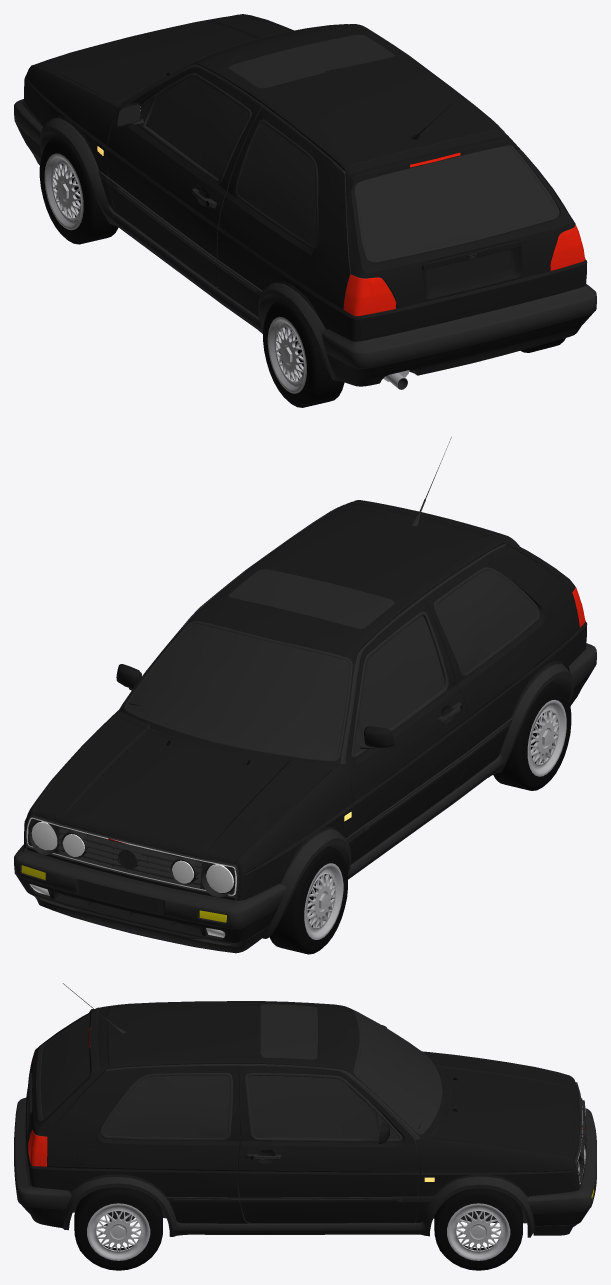
File: GolfV16.fbx
The picture shows the model from 3 angles, top to bottom: view 1: azimuth 30°, elevation 25°; view 2: azimuth 150°, elevation 25°; view 3: azimuth 270°, elevation 25°; orthographic projection. The views are drawn at different scales.
Parts seen in each view (by area): view 1: Volkswagen Golf Gti 16V, Rear Wheels, Rear Wheels.001; view 2: Volkswagen Golf Gti 16V, Rear Wheels.001, Rear Wheels; view 3: Volkswagen Golf Gti 16V, Rear Wheels, Rear Wheels.001.
Part boxes in pixels (box(x1,y1,x2,y2)): Volkswagen Golf Gti 16V: box(14, 14, 596, 389); Rear Wheels: box(263, 299, 565, 407); Rear Wheels.001: box(39, 136, 118, 244); Volkswagen Golf Gti 16V: box(14, 437, 596, 953); Rear Wheels.001: box(269, 846, 347, 954); Rear Wheels: box(493, 682, 571, 790); Volkswagen Golf Gti 16V: box(14, 983, 596, 1237); Rear Wheels: box(74, 1187, 162, 1270); Rear Wheels.001: box(434, 1188, 522, 1270).
Bounding box in the file's own units: 674 × 684 × 1519.
Materials: 16 (1 with a texture image).
